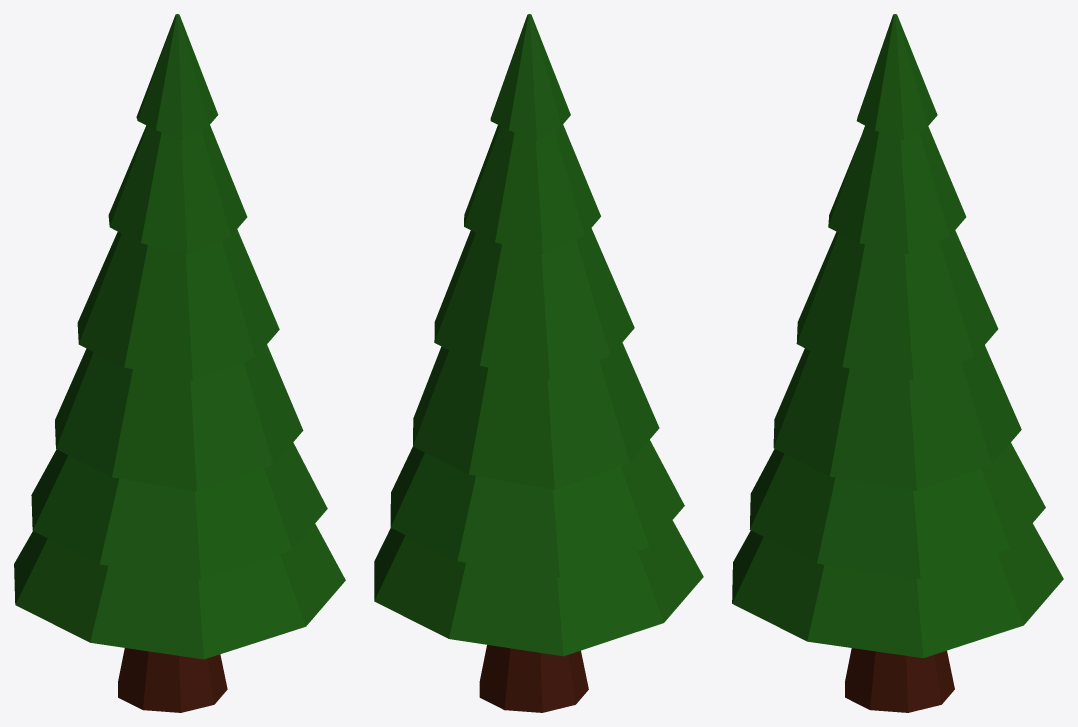
The model's file is lowpolytree.obj.
3 views of the same model, side by side, from view 1: azimuth 30°, elevation 25°; view 2: azimuth 150°, elevation 25°; view 3: azimuth 270°, elevation 25° (orthographic).
Parts seen in each view (by area): view 1: Cylinder; view 2: Cylinder; view 3: Cylinder.
Part boxes in pixels (x1=…): Cylinder: x1=14, y1=14, x2=345, y2=712; Cylinder: x1=374, y1=14, x2=703, y2=712; Cylinder: x1=732, y1=14, x2=1063, y2=712.
Size of the model in its own units: 2.31 by 5.12 by 2.28.
